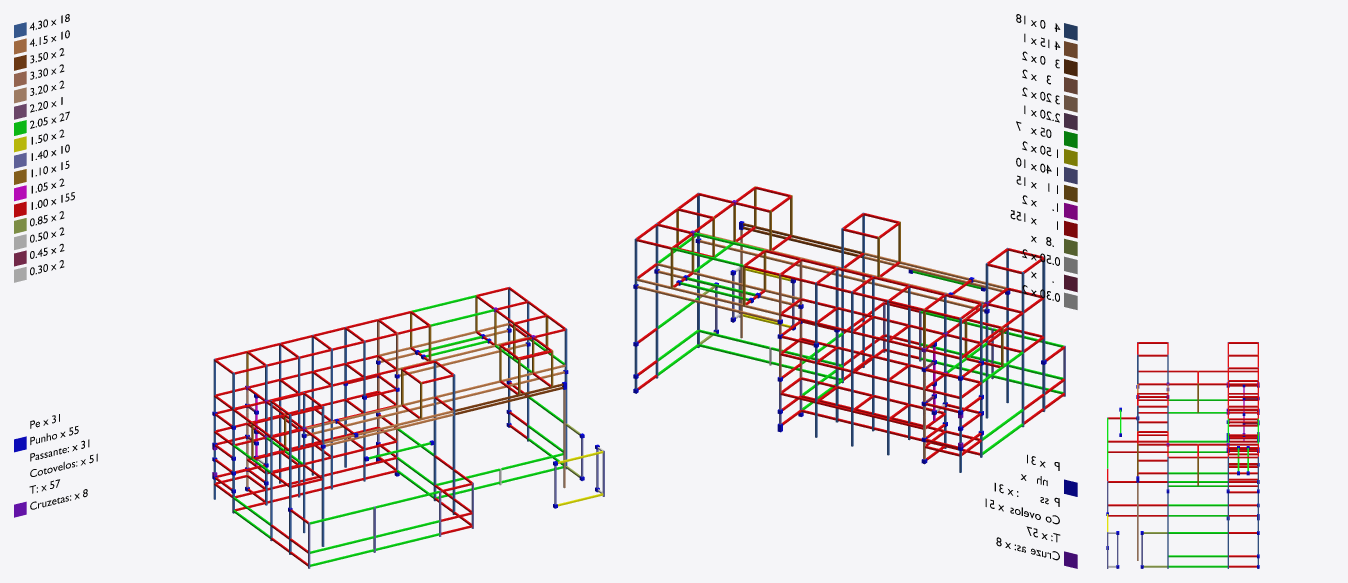
The model's file is Isometrico_D.glb.
3 views of the same model, side by side, from view 1: azimuth 30°, elevation 25°; view 2: azimuth 150°, elevation 25°; view 3: azimuth 270°, elevation 25° (orthographic). The views are drawn at different scales.
Visible parts, largest first — view 1: Estrutura.028; view 2: Estrutura.028; view 3: Estrutura.028.
Part boxes in pixels (x1,y1,x2,y2): Estrutura.028: [14, 14, 604, 568]; Estrutura.028: [633, 14, 1077, 568]; Estrutura.028: [1106, 342, 1259, 568].
Bounding box in the file's own units: 14.43 × 15.1 × 7.93.
